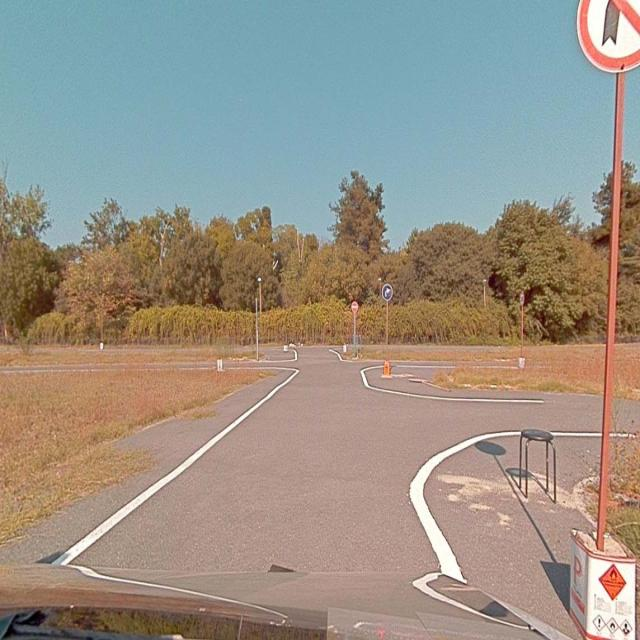girisyok: (352, 301, 358, 311)
sag: (381, 284, 392, 300)
sagadonulmez: (574, 1, 639, 74)
